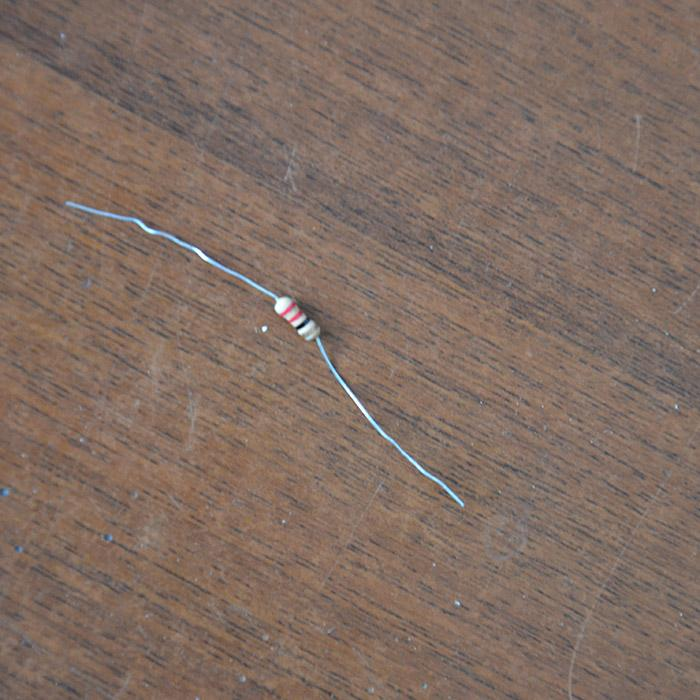resistor: (273, 294, 320, 343)
